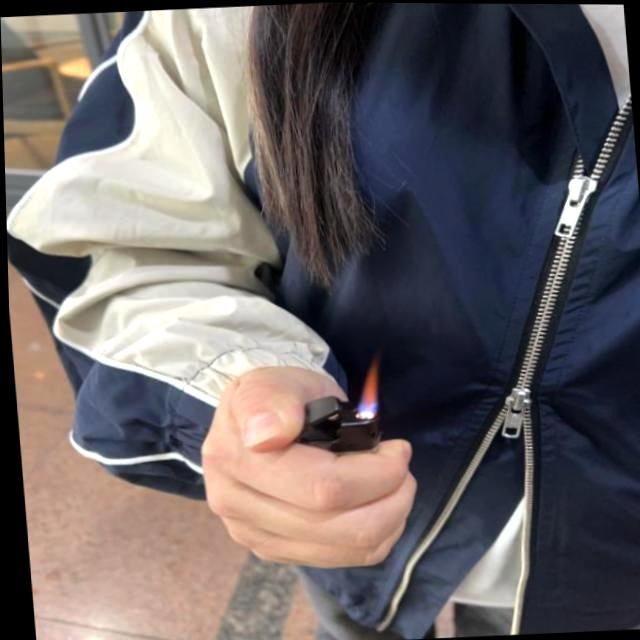fire: (352, 350, 380, 418)
